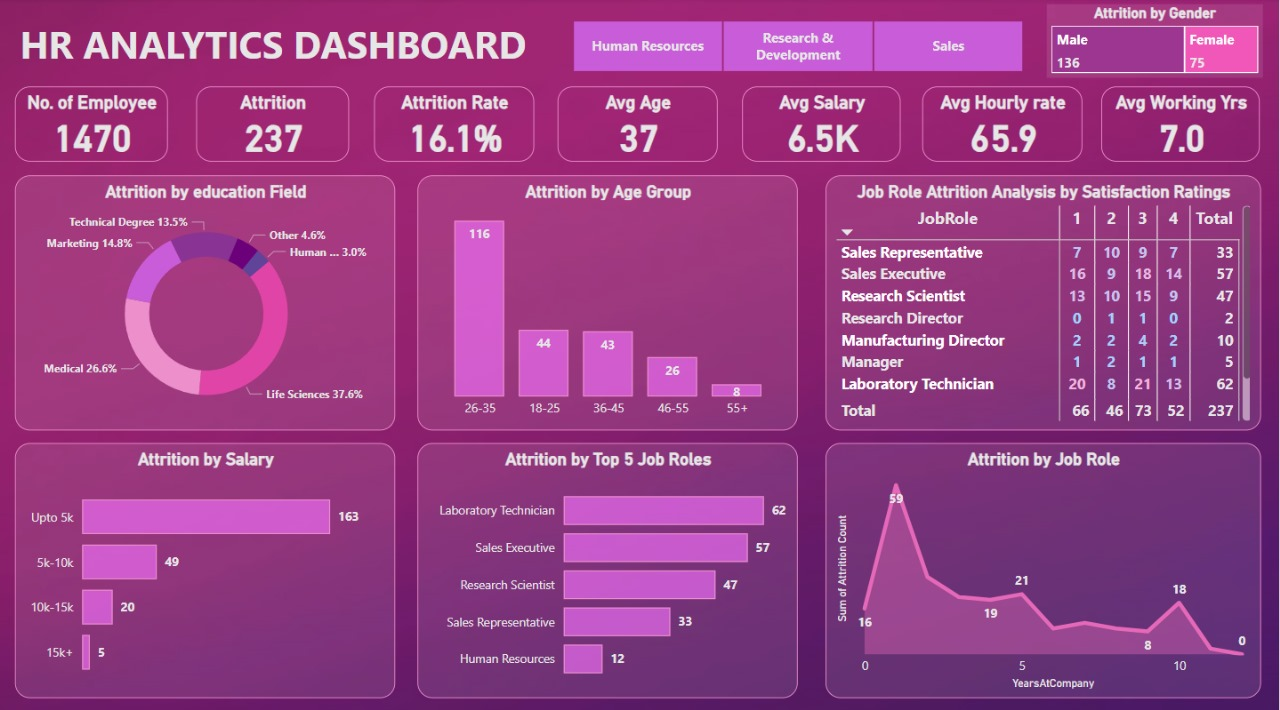

The page's visual inventory and layout, read from the dashboard file:
{"tool":"powerbi","page":{"name":"Page 1","canvas":[1280,720],"ordinal":0},"visuals":[{"type":"card","title":"No. of Employee","fields":{"Values":["CountNonNull(HR_Analytics.EmpID)"]},"box":[16.2,90,152.5,75],"z":0},{"type":"card","title":"Attrition","fields":{"Values":["Sum(HR_Analytics.Attrition Count)"]},"box":[197.5,90,152.5,75],"z":2},{"type":"card","title":"Attrition Rate","fields":{"Values":["HR_Analytics.Attrition Rate"]},"box":[375,90,160,75],"z":3},{"type":"card","title":"Avg Age","fields":{"Values":["Avg(HR_Analytics.Age)"]},"box":[558.8,90,160,75],"z":4},{"type":"card","title":"Avg Salary","fields":{"Values":["Avg(HR_Analytics.MonthlyIncome)"]},"box":[743.8,90,158.8,75],"z":5},{"type":"card","title":"Avg Working Yrs","fields":{"Values":["Avg(HR_Analytics.YearsAtCompany)"]},"box":[1102.5,90,158.8,75],"z":6},{"type":"card","title":"Avg Hourly rate","fields":{"Values":["Avg(HR_Analytics.HourlyRate)"]},"box":[923.8,90,160,75],"z":7},{"type":"donutChart","title":"Attrition by education Field","fields":{"Category":["HR_Analytics.EducationField"],"Y":["Sum(HR_Analytics.Attrition Count)"]},"box":[16.2,178.8,380,255],"z":8},{"type":"columnChart","title":"Attrition by Age Group","fields":{"Category":["HR_Analytics.AgeGroup"],"Y":["Sum(HR_Analytics.Attrition Count)"]},"box":[418.8,178.8,380,255],"z":9},{"type":"pivotTable","title":"Job Role Attrition Analysis by Satisfaction Ratings","fields":{"Rows":["HR_Analytics.JobRole"],"Values":["Sum(HR_Analytics.Attrition Count)"],"Columns":["HR_Analytics.JobSatisfaction"]},"box":[826.2,178.8,435,255],"z":10},{"type":"barChart","title":"Attrition by Salary","fields":{"Category":["HR_Analytics.SalarySlab"],"Y":["Sum(HR_Analytics.Attrition Count)"]},"box":[16.2,446.2,380,255],"z":11},{"type":"clusteredBarChart","title":"Attrition by Top 5 Job Roles","fields":{"Category":["HR_Analytics.JobRole"],"Y":["Sum(HR_Analytics.Attrition Count)"]},"box":[418.8,446.2,380,255],"z":12},{"type":"areaChart","title":"Attrition by Job Role","fields":{"Category":["HR_Analytics.YearsAtCompany"],"Y":["Sum(HR_Analytics.Attrition Count)"]},"box":[826.2,446.2,435,255],"z":13},{"type":"treemap","title":"Attrition by Gender","fields":{"Group":["HR_Analytics.Gender"],"Values":["Sum(HR_Analytics.Attrition Count)"]},"box":[1047.5,7.5,216.2,73.8],"z":14},{"type":"slicer","fields":{"Values":["HR_Analytics.Department"]},"box":[548.8,17.5,498.8,63.8],"z":15},{"type":"textbox","box":[16.2,17.5,531.2,63.8],"z":17}]}

Visuals, with their boxes in screenshot pixels (x1, y1, x2, y2), scaled from the page's 1280x720 canvas onto the 1280x710 screenshot:
"No. of Employee" card: region(16, 89, 169, 163)
"Attrition" card: region(198, 89, 350, 163)
"Attrition Rate" card: region(375, 89, 535, 163)
"Avg Age" card: region(559, 89, 719, 163)
"Avg Salary" card: region(744, 89, 903, 163)
"Avg Working Yrs" card: region(1102, 89, 1261, 163)
"Avg Hourly rate" card: region(924, 89, 1084, 163)
"Attrition by education Field" donutChart: region(16, 176, 396, 428)
"Attrition by Age Group" columnChart: region(419, 176, 799, 428)
"Job Role Attrition Analysis by Satisfaction Ratings" pivotTable: region(826, 176, 1261, 428)
"Attrition by Salary" barChart: region(16, 440, 396, 691)
"Attrition by Top 5 Job Roles" clusteredBarChart: region(419, 440, 799, 691)
"Attrition by Job Role" areaChart: region(826, 440, 1261, 691)
"Attrition by Gender" treemap: region(1048, 7, 1264, 80)
slicer - HR_Analytics.Department: region(549, 17, 1048, 80)
textbox: region(16, 17, 547, 80)
